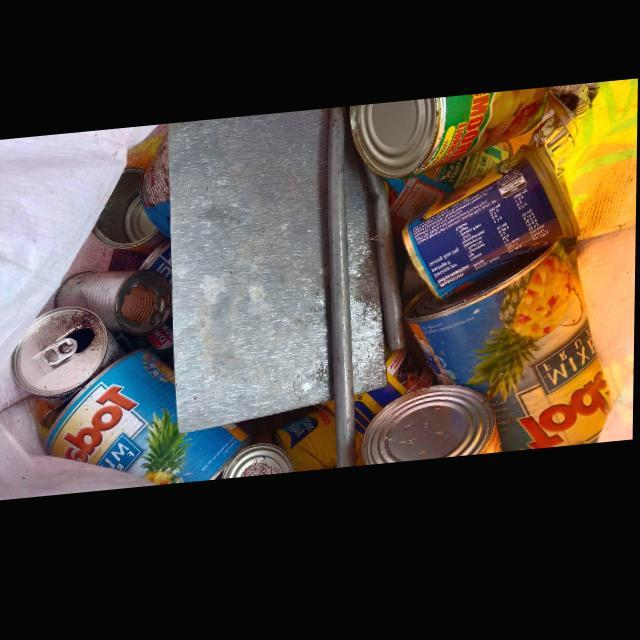metal: (405, 252, 614, 461), (47, 351, 250, 488), (405, 156, 579, 307), (356, 97, 553, 187), (385, 151, 512, 241), (362, 393, 504, 472), (11, 308, 114, 409), (51, 270, 168, 341), (93, 168, 170, 256), (529, 94, 598, 184), (140, 126, 171, 241), (219, 449, 295, 483)
